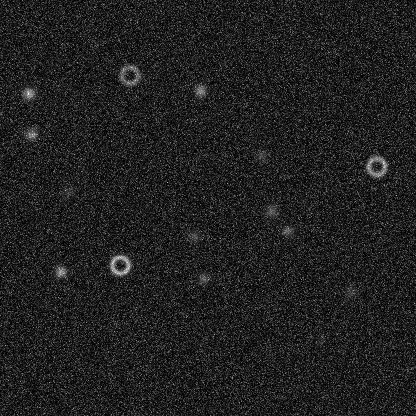Ring: (108, 252, 132, 276), (117, 63, 141, 87), (364, 154, 388, 178)
Spot: (263, 202, 279, 218), (186, 228, 202, 244), (253, 147, 269, 163), (195, 270, 211, 286), (20, 85, 36, 101), (52, 263, 68, 279), (342, 282, 358, 298), (23, 126, 39, 142), (311, 332, 327, 348), (192, 82, 208, 98), (59, 182, 75, 198), (279, 222, 295, 238)
